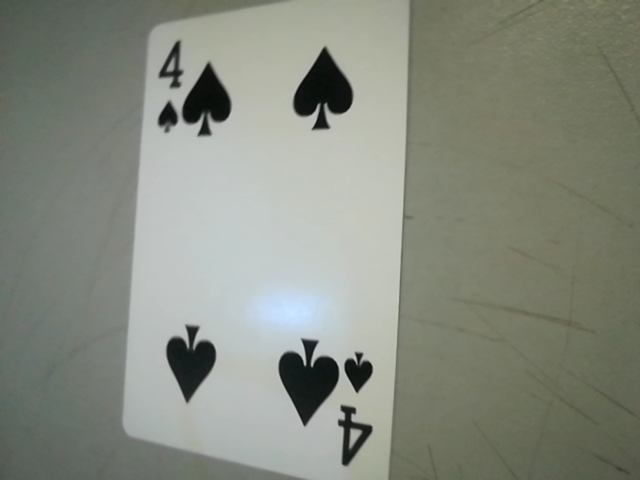ht 4: (329, 335, 388, 480)
